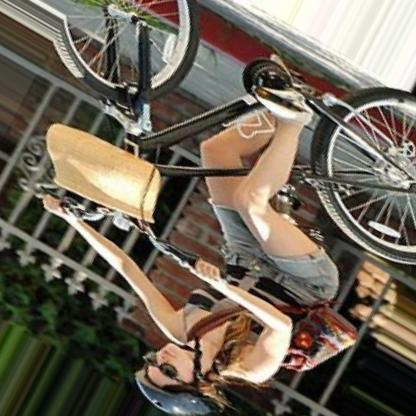with helmet: (135, 341, 226, 416)
